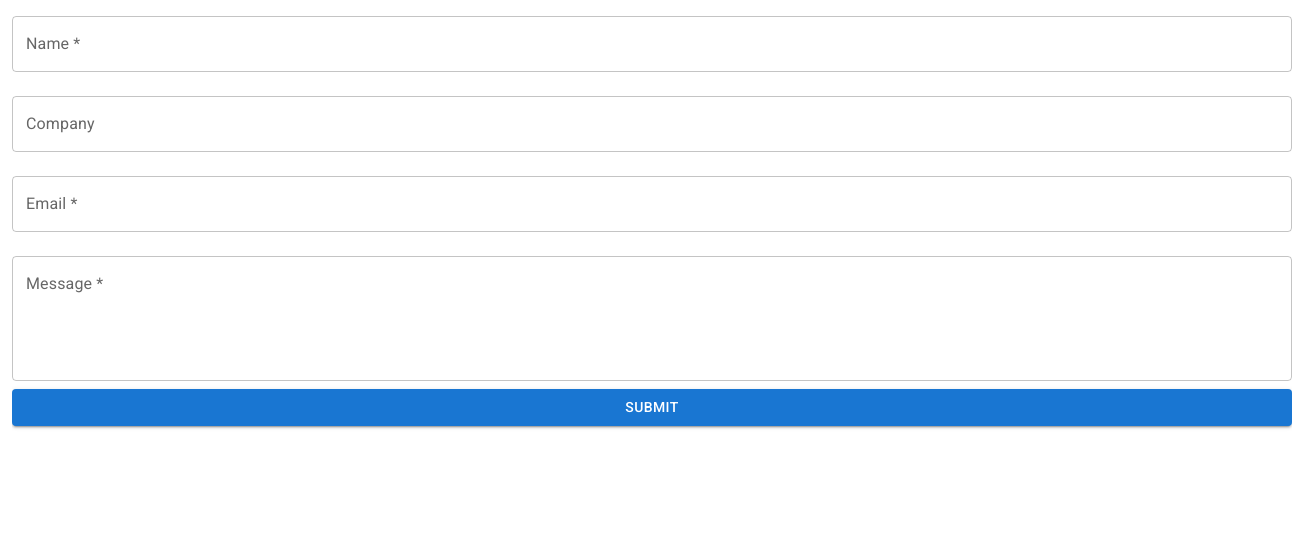
Test case: ContactForm › displays error when request is not successful
The width and height of the screenshot is (1304, 534).
Type "Test Name" into the field labelled "Name *".
click(652, 44); type("Test Name")  # box x1=12 y1=16 x2=1292 y2=72
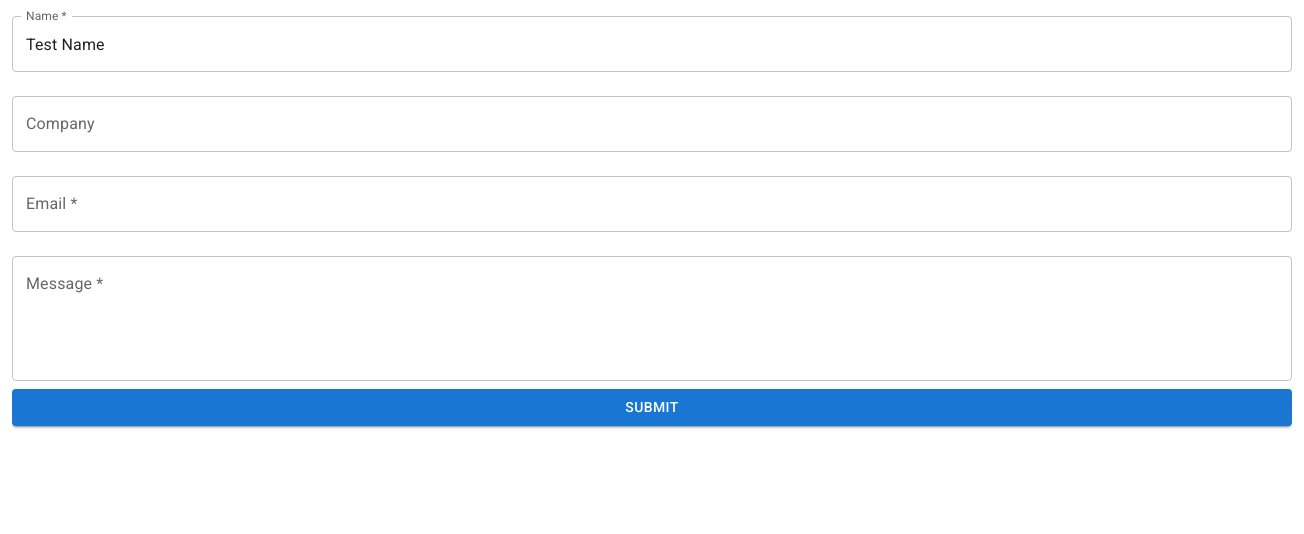
Type "Test Company" into the field labelled "Company".
click(652, 124); type("Test Company")  # box x1=12 y1=96 x2=1292 y2=152
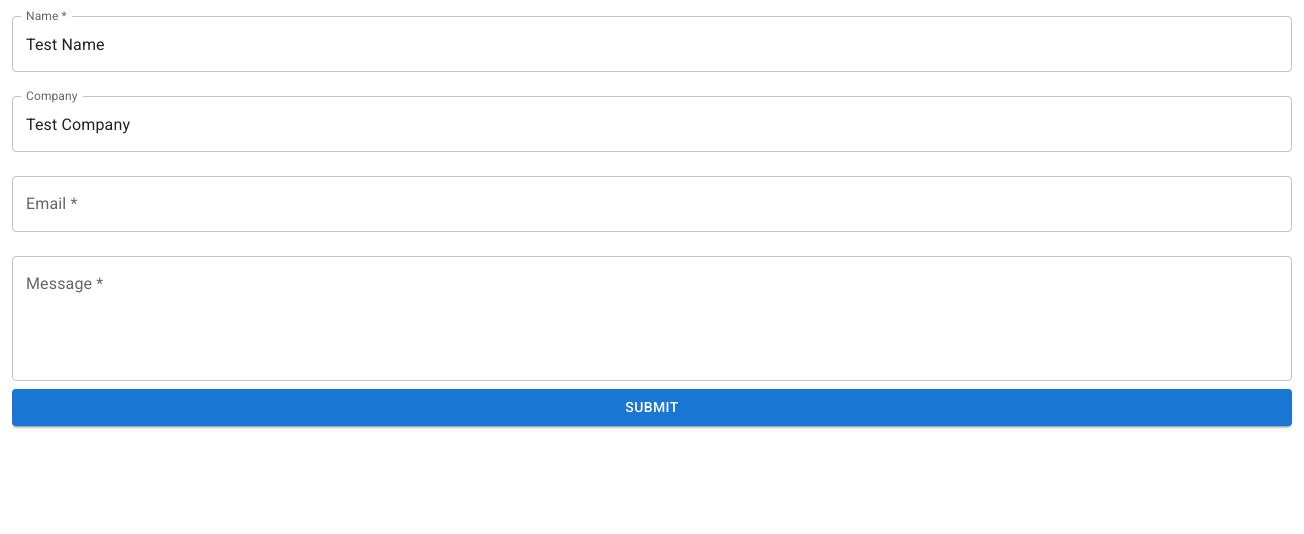
Type "test@test.com" into the field labelled "Email *".
click(652, 204); type("test@test.com")  # box x1=12 y1=176 x2=1292 y2=232
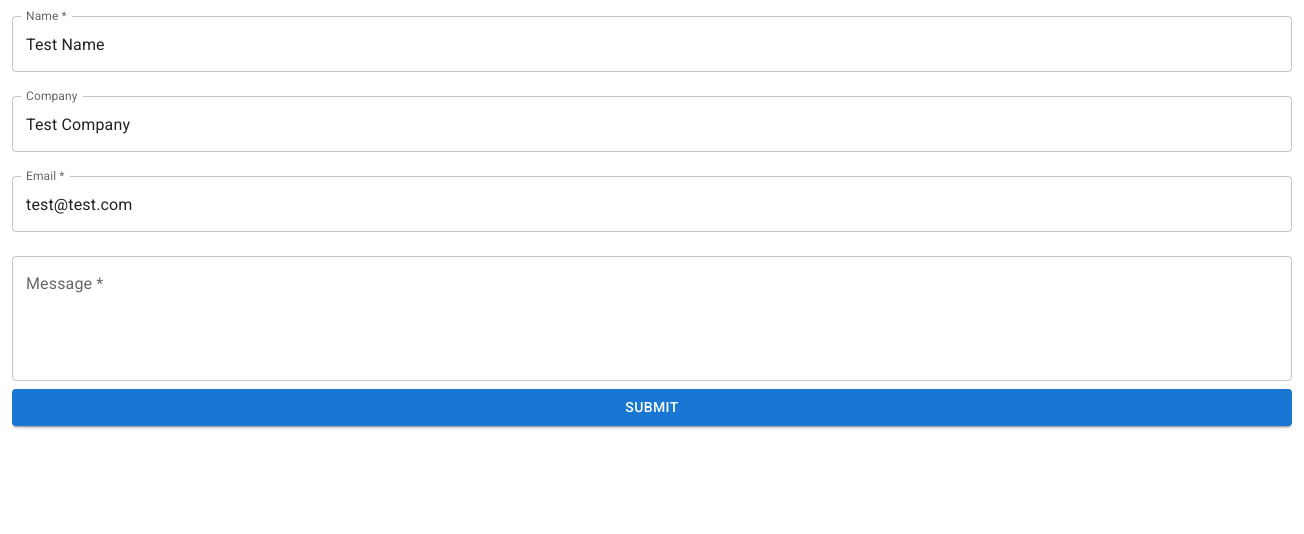
Type "Test Message" into the text box labelled "Message *".
click(652, 318); type("Test Message")  # box x1=26 y1=272 x2=1278 y2=364
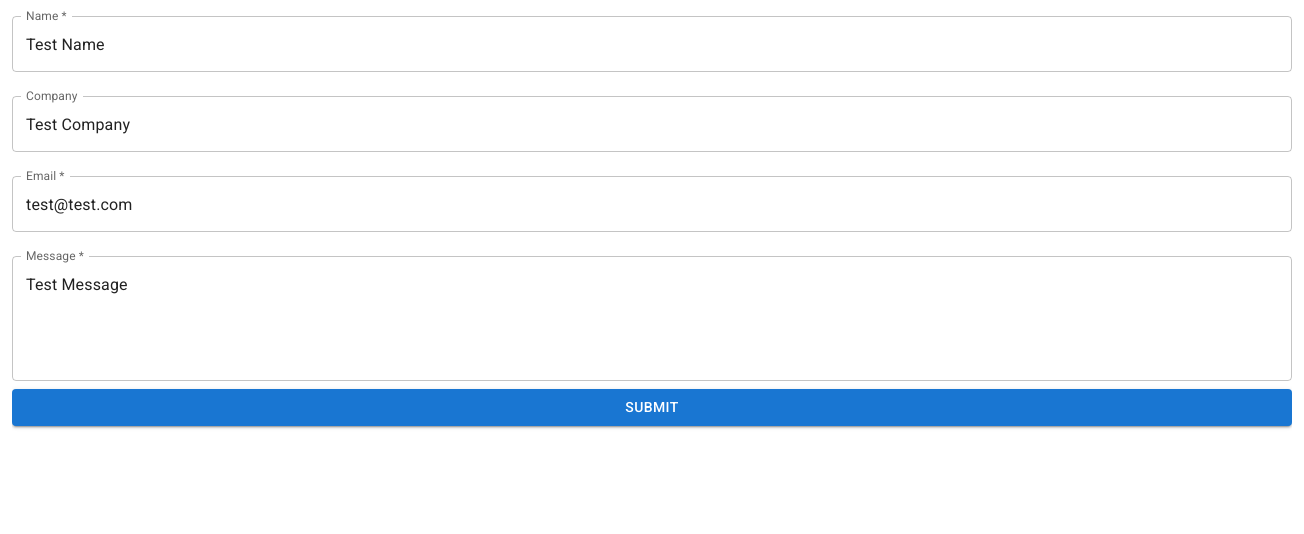
Click the button "Submit".
click(652, 407)  # box x1=12 y1=389 x2=1292 y2=426
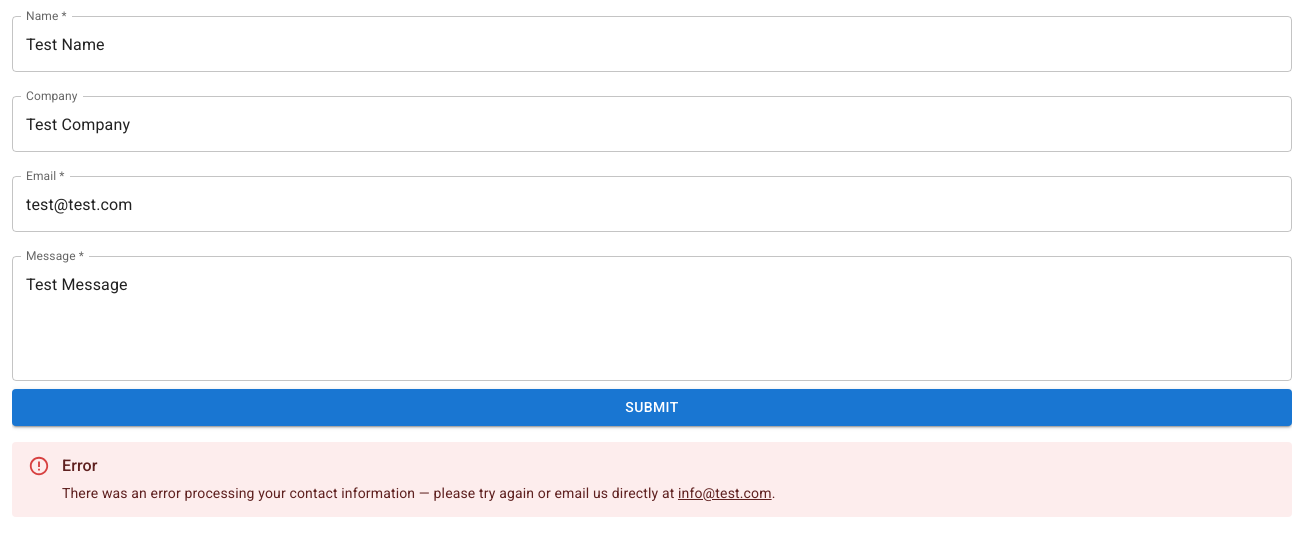
Now the text "There was an error processing your contact information — please try again or email us directly at " is shown, box x1=62 y1=485 x2=678 y2=501
